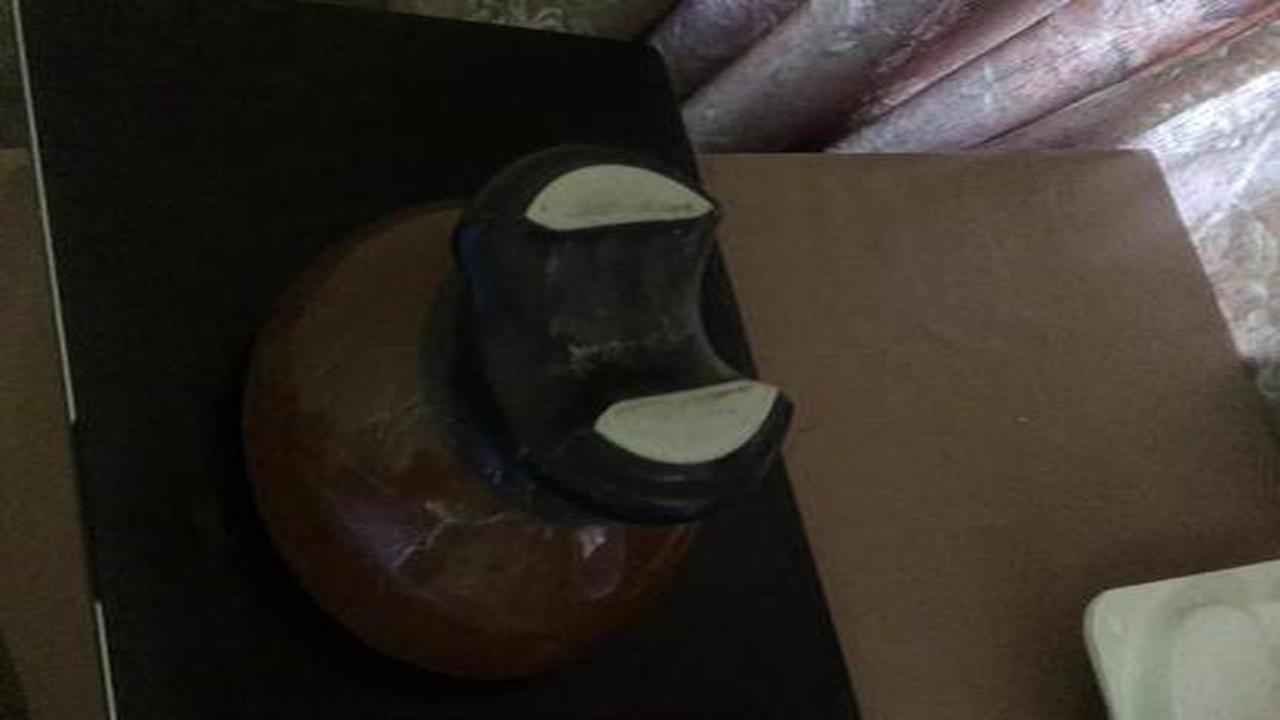insulator_pin: (216, 127, 810, 696)
